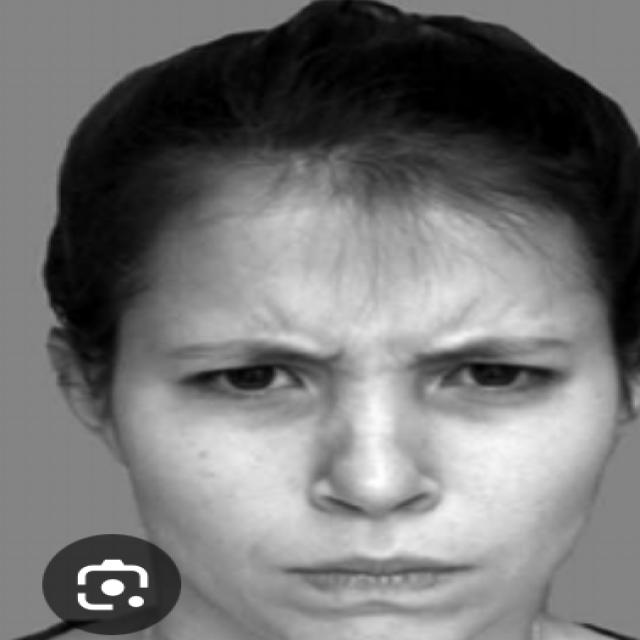angry: (168, 317, 570, 606)
